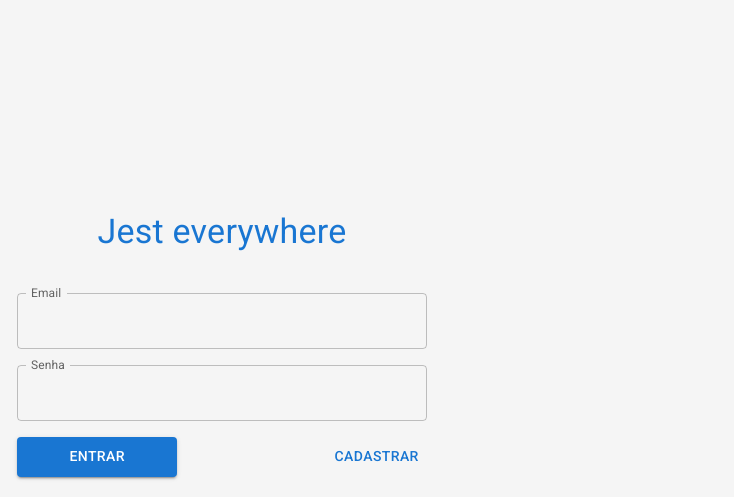
Scenario: login › should render error message when login
Type "admin@admin.com" into the field labelled "Email".
click(222, 321); type("admin@admin.com")  # box [17, 293, 427, 349]
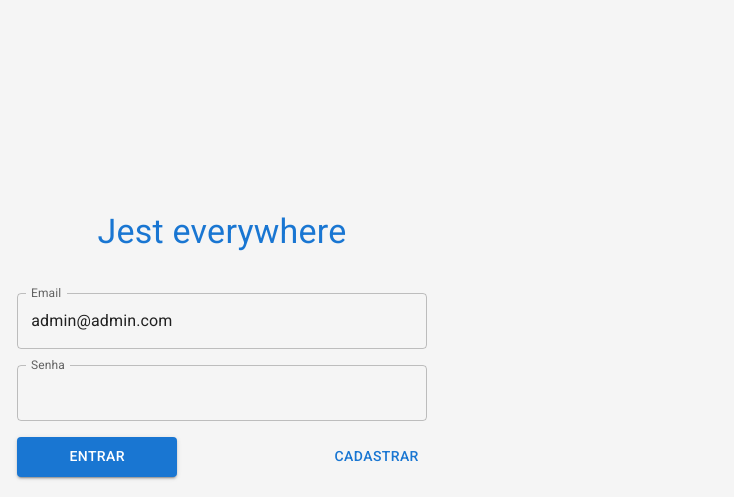
Type "admin" into the password field labelled "Senha".
click(222, 393); type("admin")  # box [17, 365, 427, 421]
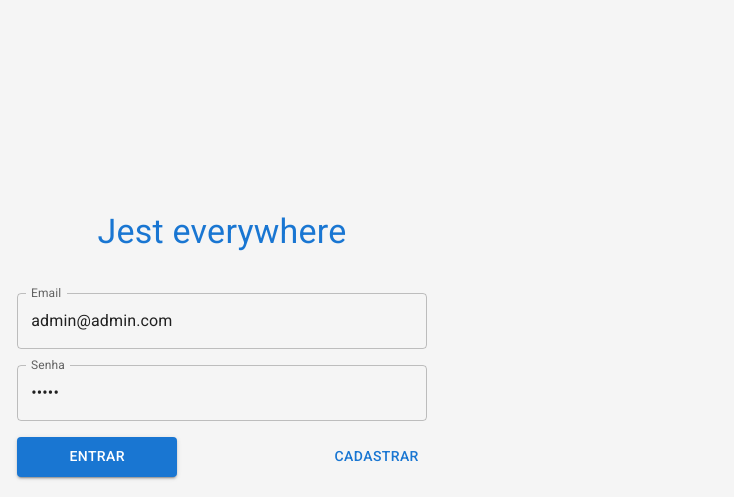
Click the button "Entrar".
click(97, 457)  # box [17, 437, 177, 477]
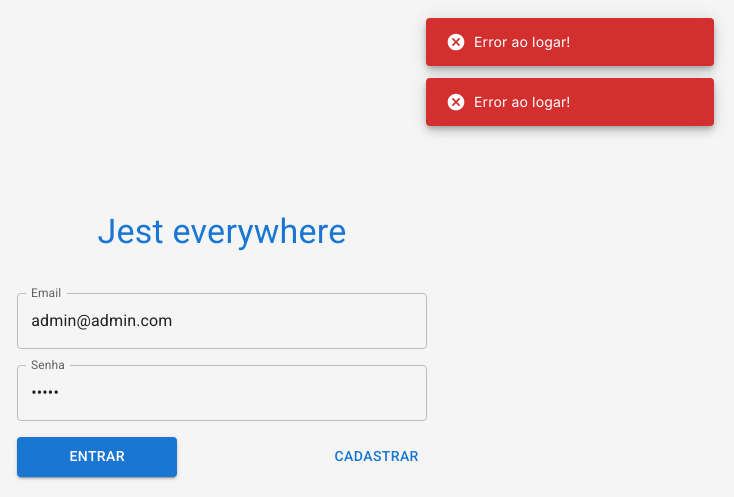
Now the 1st text "Error ao logar!" is shown, box [446, 32, 570, 52]
